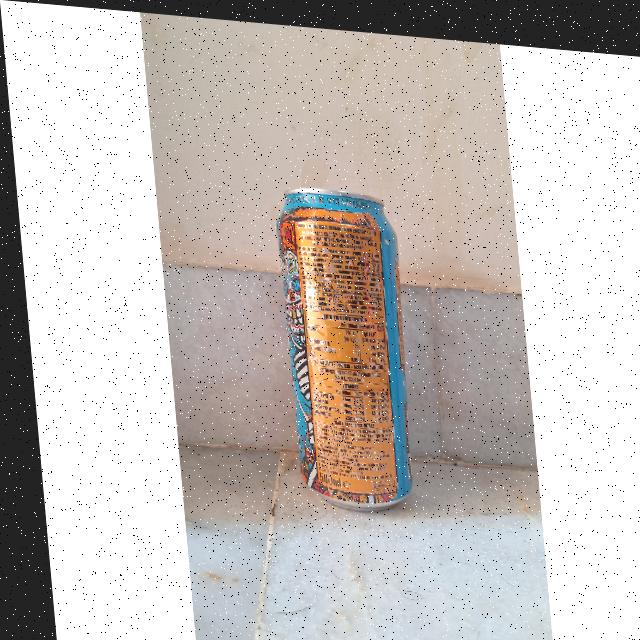Monster Mango Loco: (255, 172, 434, 517)
